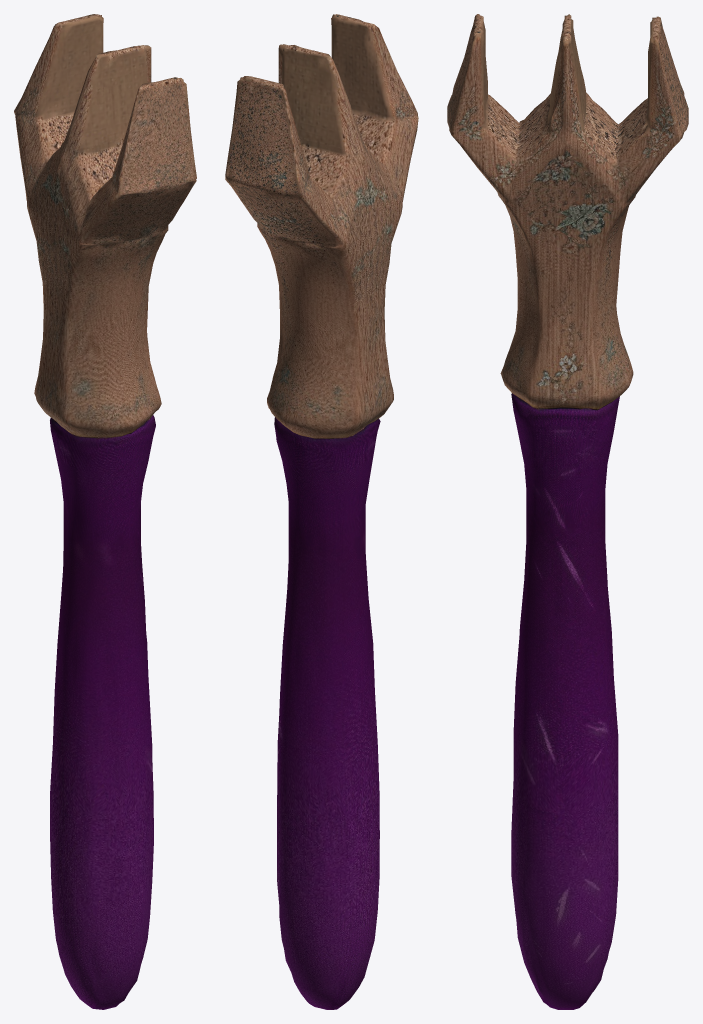
The model's file is tripo_convert_41c79ac8-d395-4d00-8a5c-0338c376b47d.fbx.
The picture shows the model from 3 angles, left to right: view 1: azimuth 30°, elevation 25°; view 2: azimuth 150°, elevation 25°; view 3: azimuth 270°, elevation 25°; orthographic projection. The views are drawn at different scales.
Parts seen in each view (by area): view 1: tripo_node_41c79ac8; view 2: tripo_node_41c79ac8; view 3: tripo_node_41c79ac8.
Boxes of the visible parts, x1=… form: tripo_node_41c79ac8: x1=14, y1=14, x2=196, y2=1009; tripo_node_41c79ac8: x1=225, y1=14, x2=418, y2=1009; tripo_node_41c79ac8: x1=447, y1=14, x2=688, y2=1009.
Size of the model in its own units: 0.1113 by 0.998 by 0.2207.
1 material, 1 textured.
